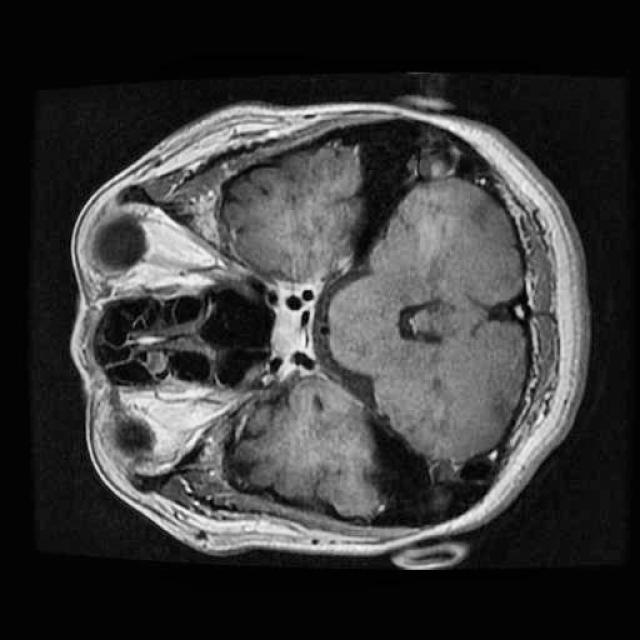Tumor: (262, 299, 311, 359)
